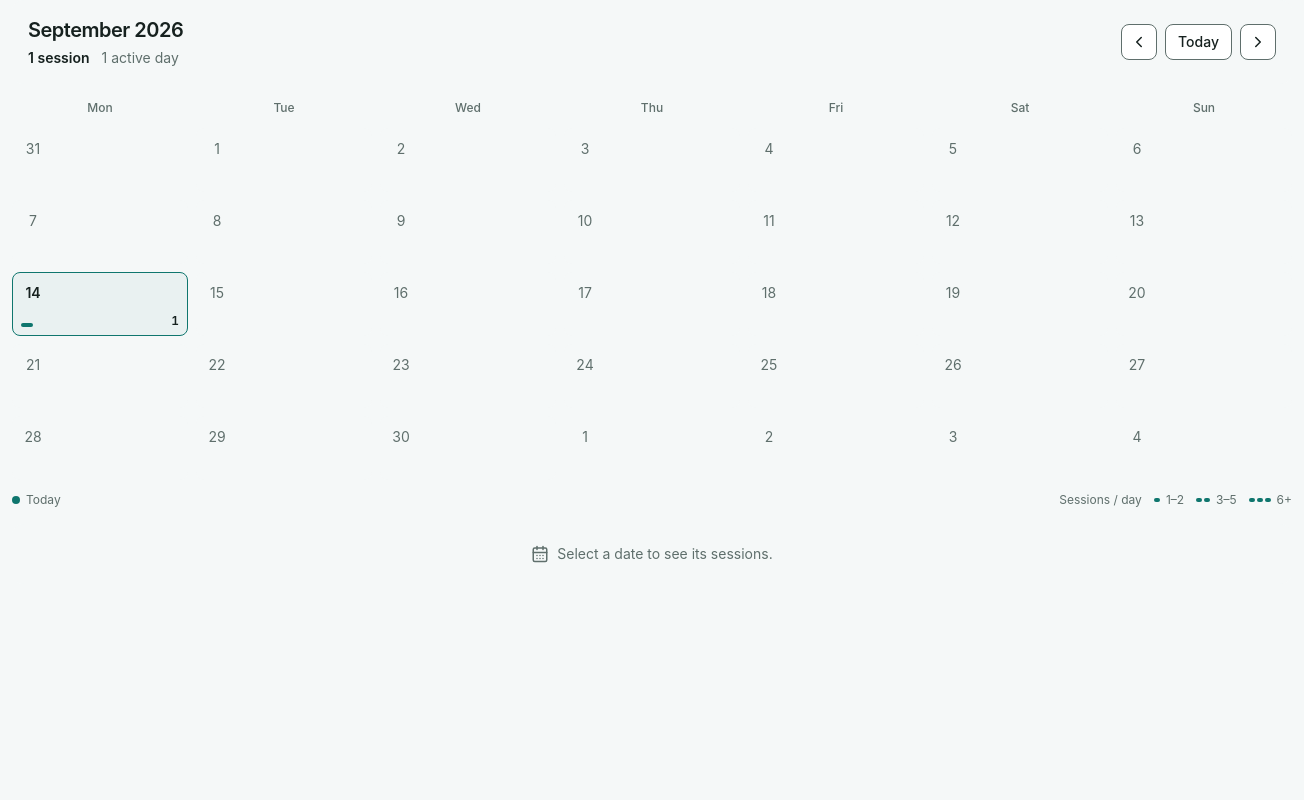
Test: shows a distinct empty message for an in-month day with no sessions, not the list
Click the cell named "September 2, 2026". click: (468, 160)
box: [380,128,556,192]
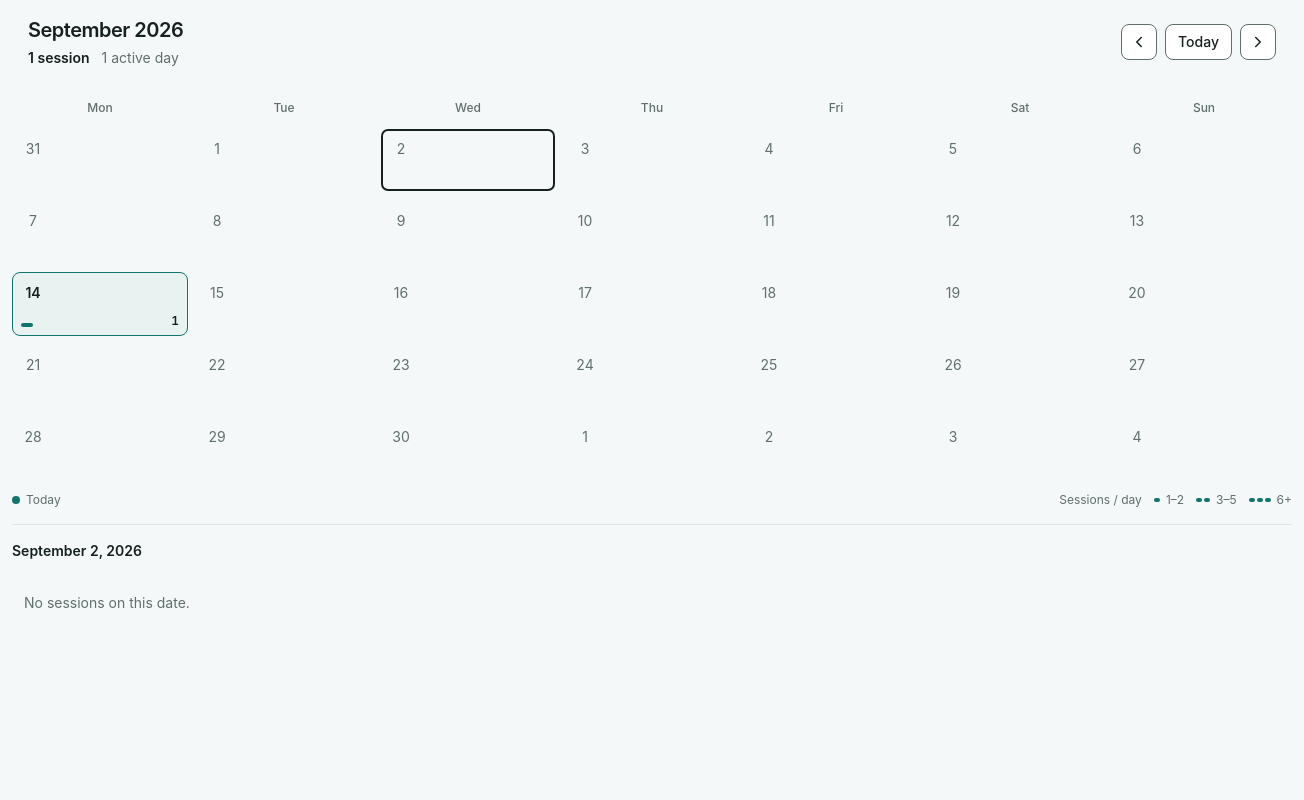
Expected: the text "No sessions on this date." is shown, [12,573,1292,633]
